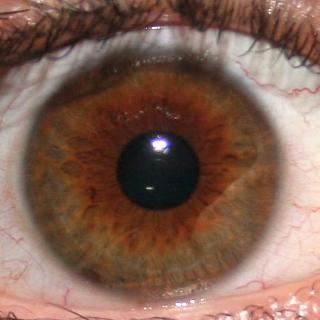iris: (24, 43, 279, 299)
